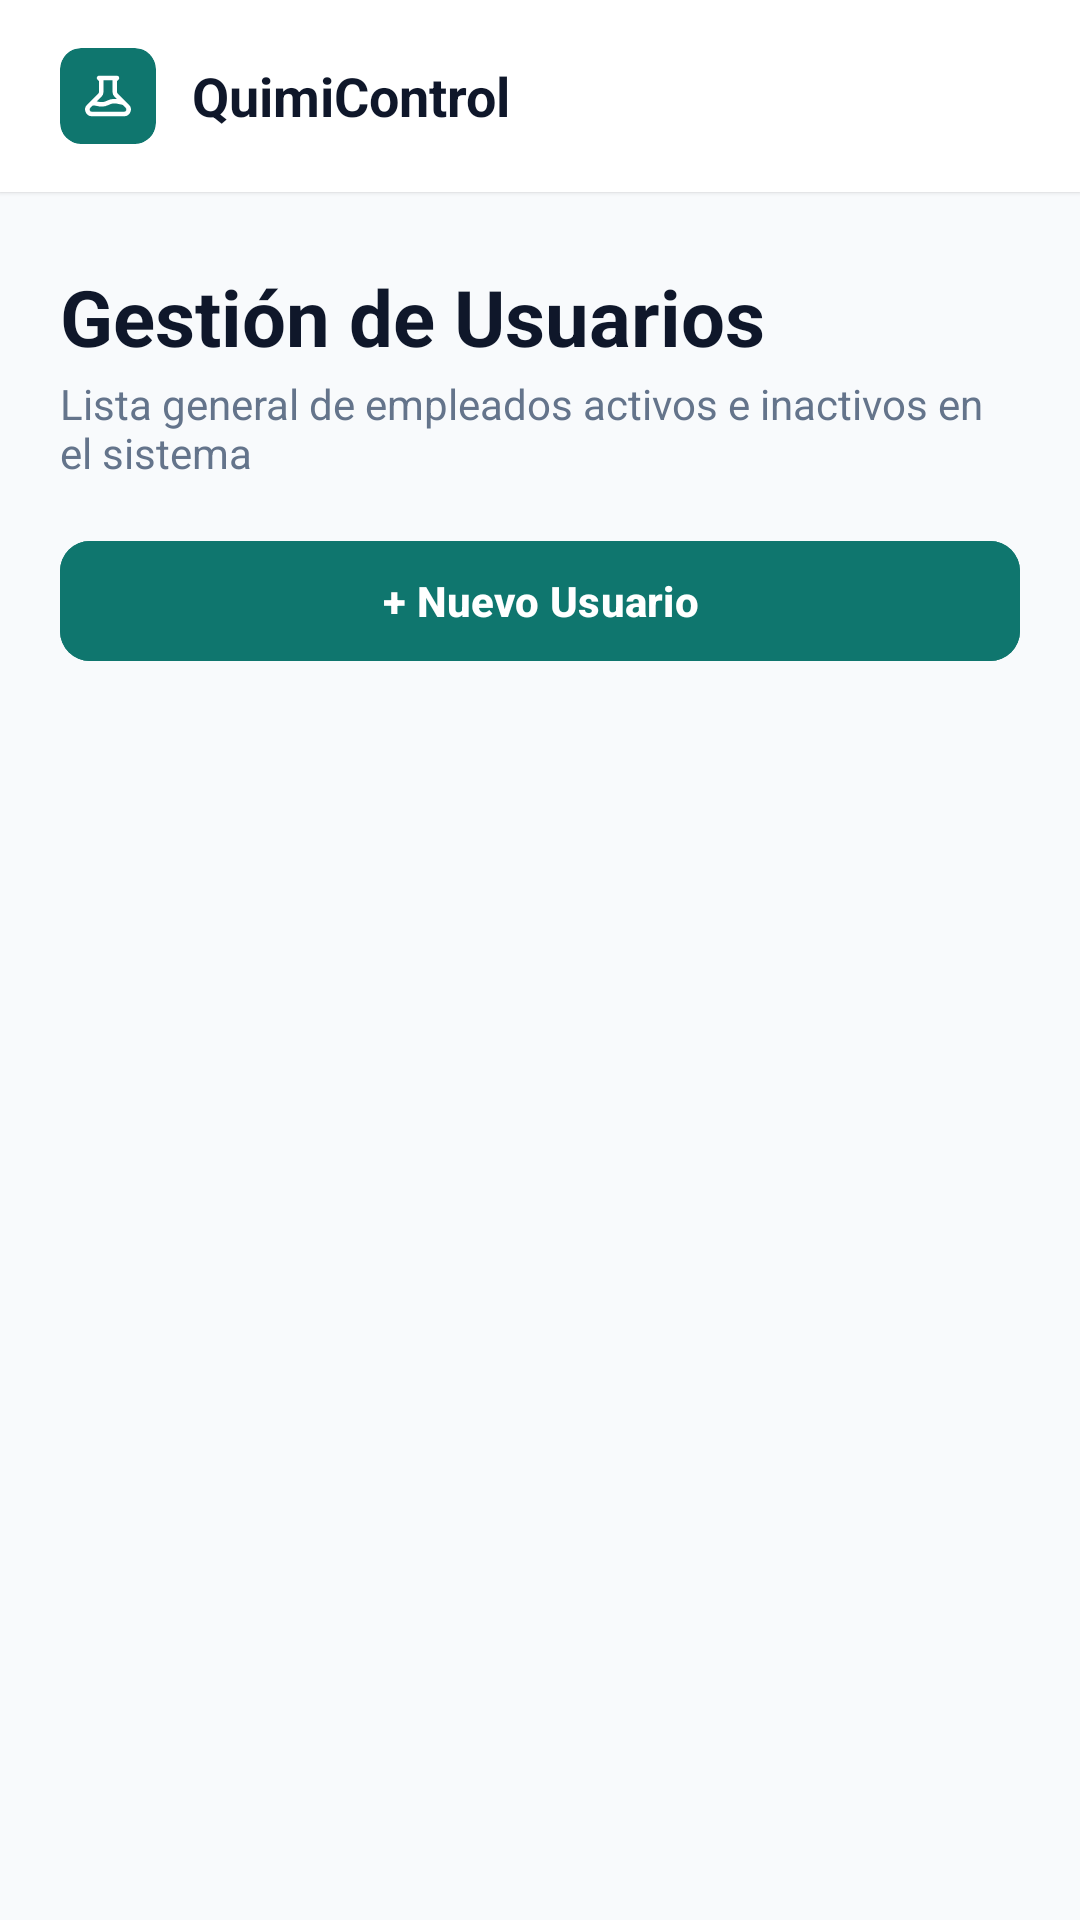

Icons on this 1080×1920 Android screen, each with its box as (x1, y1, x2, y2):
quimi flask: (85, 75, 131, 117)
